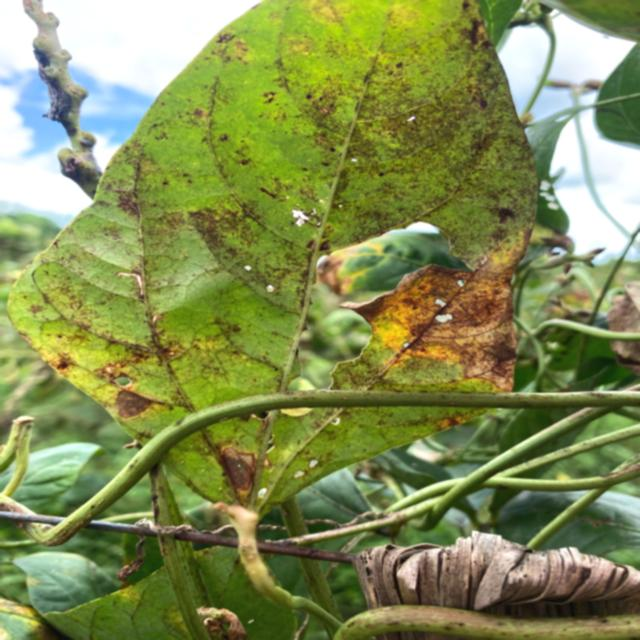leaf-moderate: (9, 0, 536, 447), (165, 407, 485, 514)
